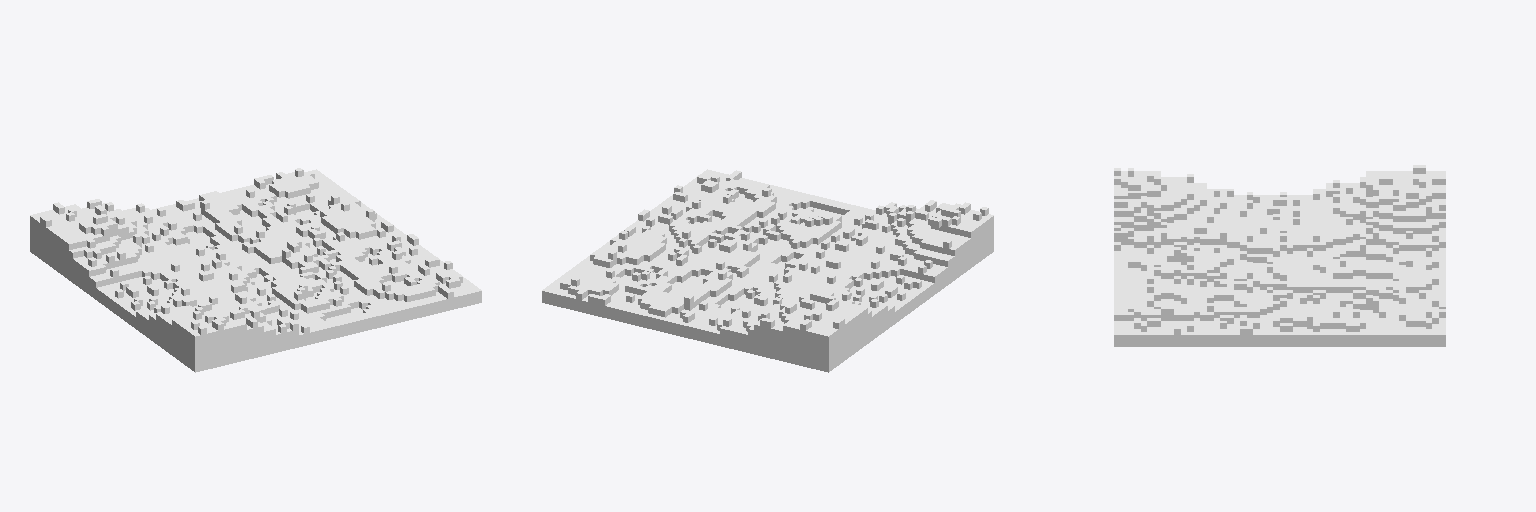
File: Road_Main2Simple.obj
3 renders of one model, left to right at view 1: azimuth 30°, elevation 25°; view 2: azimuth 150°, elevation 25°; view 3: azimuth 270°, elevation 25°, orthographic.
Visible parts, largest first — view 1: object 1; view 2: object 1; view 3: object 1.
Boxes of the visible parts, box(x1,y1,x2,y2) form: object 1: box(30, 168, 481, 372); object 1: box(542, 169, 993, 372); object 1: box(1114, 165, 1445, 346).
Bounding box in the file's own units: 5 × 0.7 × 5.